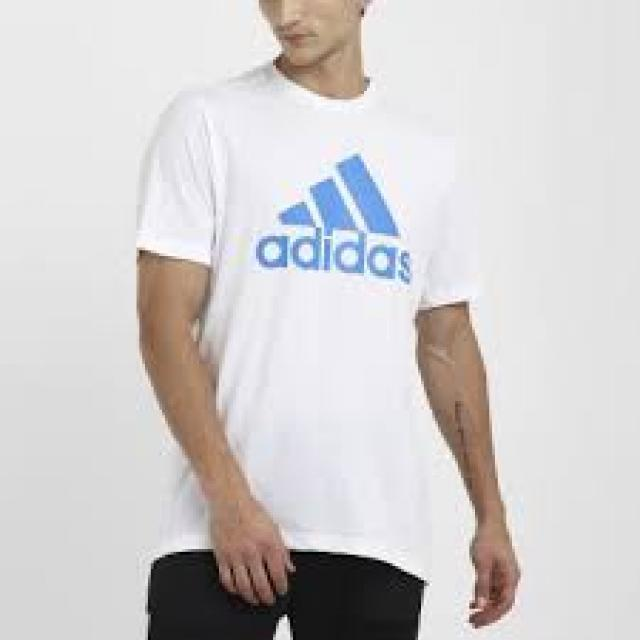Adidas: (250, 146, 420, 297)
